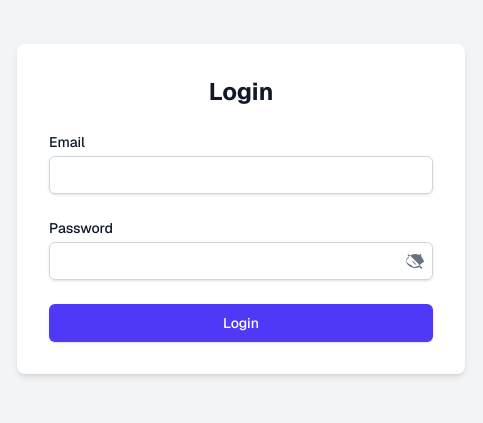
Test: LoginPage › should show validation errors for both email and password when both are invalid
Type "123" into the password field labelled "Password" at coordinates (241, 261), box [49,242,433,280]
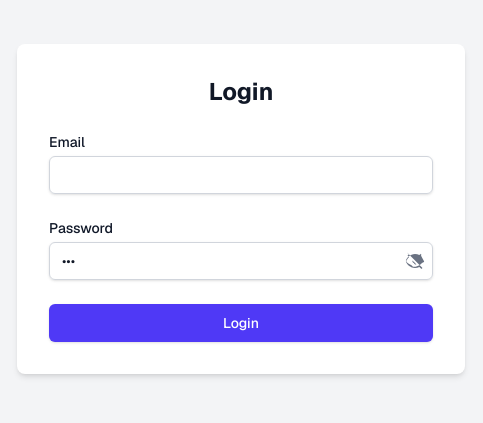
Click the button "Login" at coordinates (241, 323), box [49,304,433,342]
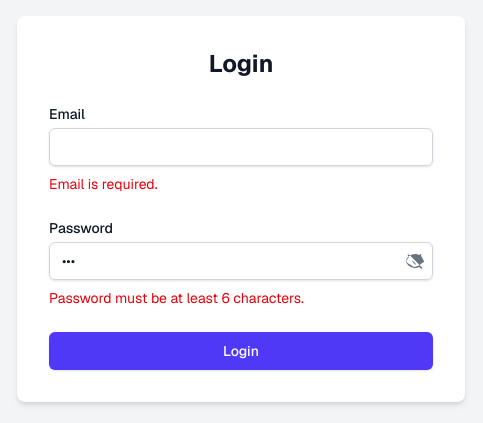
Expected: the text "Email is required." is shown, [49,175,158,193]
Expected: the text "Password must be at least 6 characters." is shown, [49,289,304,307]
